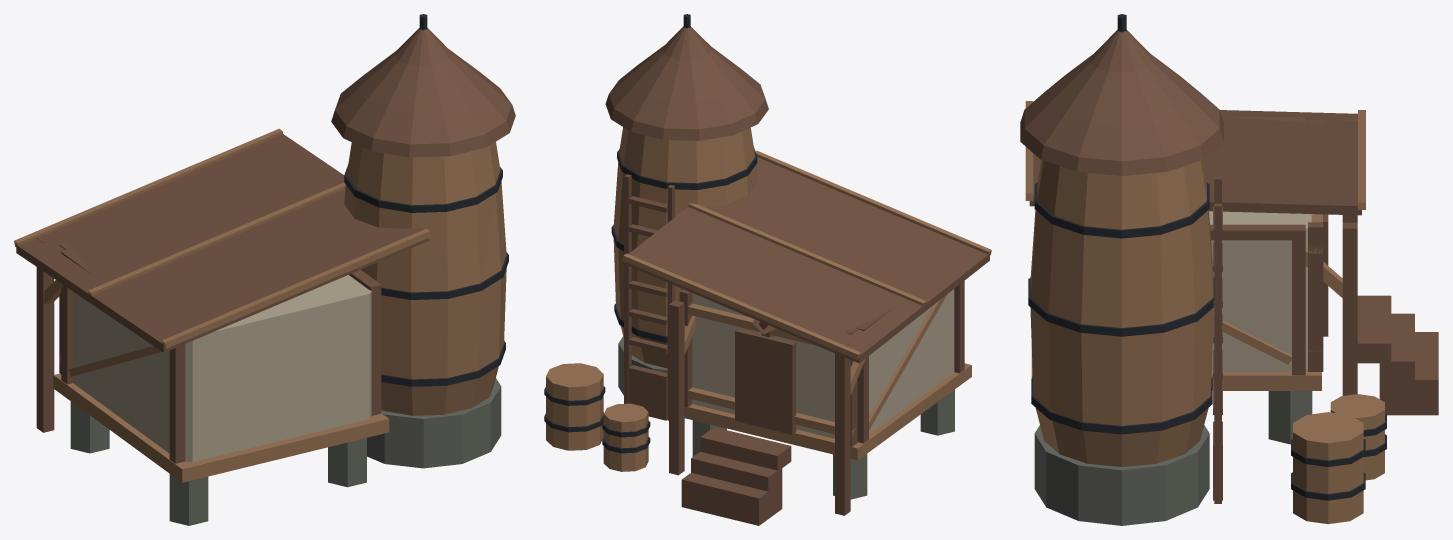
The model's file is Ashen_Granary.obj.
The picture shows the model from 3 angles, left to right: view 1: azimuth 30°, elevation 25°; view 2: azimuth 150°, elevation 25°; view 3: azimuth 270°, elevation 25°; orthographic projection. The views are drawn at different scales.
Visible parts, largest first — view 1: Ashen_Granary; view 2: Ashen_Granary; view 3: Ashen_Granary.
Part boxes in pixels (<box>): Ashen_Granary: <box>14,14,515,525</box>; Ashen_Granary: <box>544,14,991,525</box>; Ashen_Granary: <box>1020,14,1438,525</box>.
Bounding box in the file's own units: 5.9 × 6.2 × 4.97.
